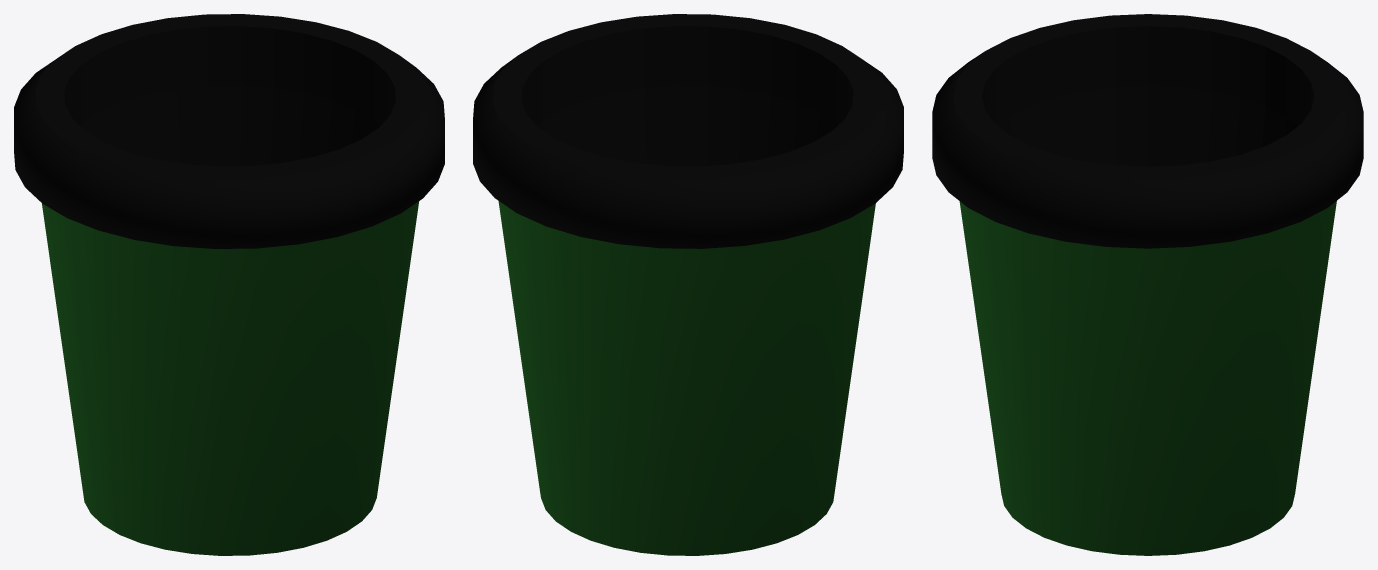
Rendered from biotrashCan.fbx.
3 views of the same model, side by side, from view 1: azimuth 30°, elevation 25°; view 2: azimuth 150°, elevation 25°; view 3: azimuth 270°, elevation 25° (orthographic).
Visible parts, largest first — view 1: Cube; view 2: Cube; view 3: Cube.
Part boxes in pixels (<box>): Cube: <box>14,14,444,555</box>; Cube: <box>473,14,903,555</box>; Cube: <box>932,14,1363,555</box>.
Bounding box in the file's own units: 294 × 299 × 294.
